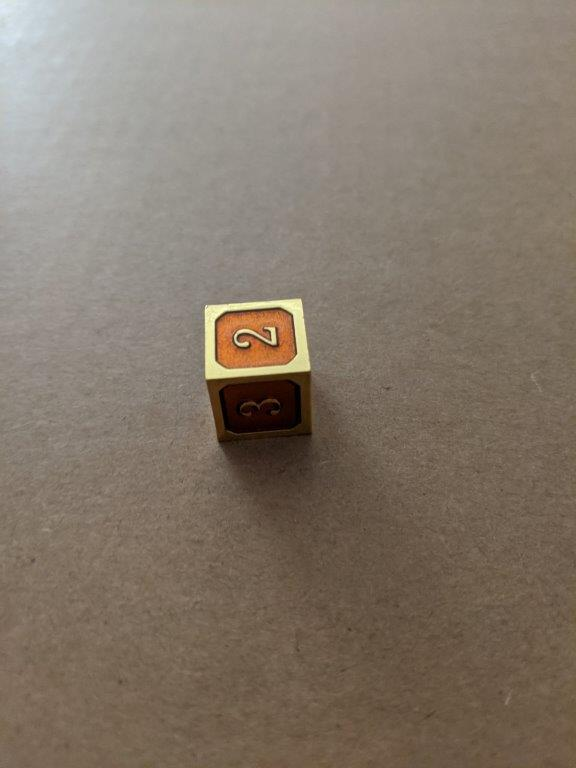d6-2: (200, 297, 311, 444)
